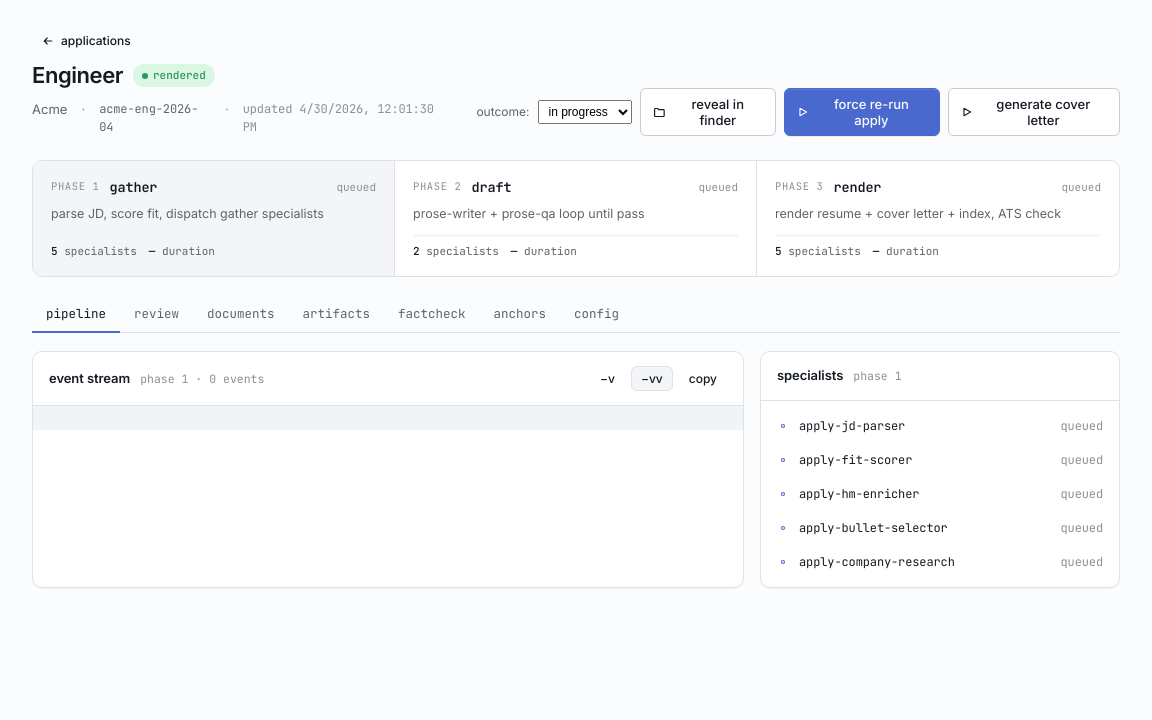
ApplicationDetail positive: API artifacts surface in DOM (feat-83d6cf54) › shows empty-state message in artifacts tab when no artifacts are present
This screenshot has width=1152, height=720.
Click the text "artifacts" at point(336, 313), box [302, 304, 370, 322]
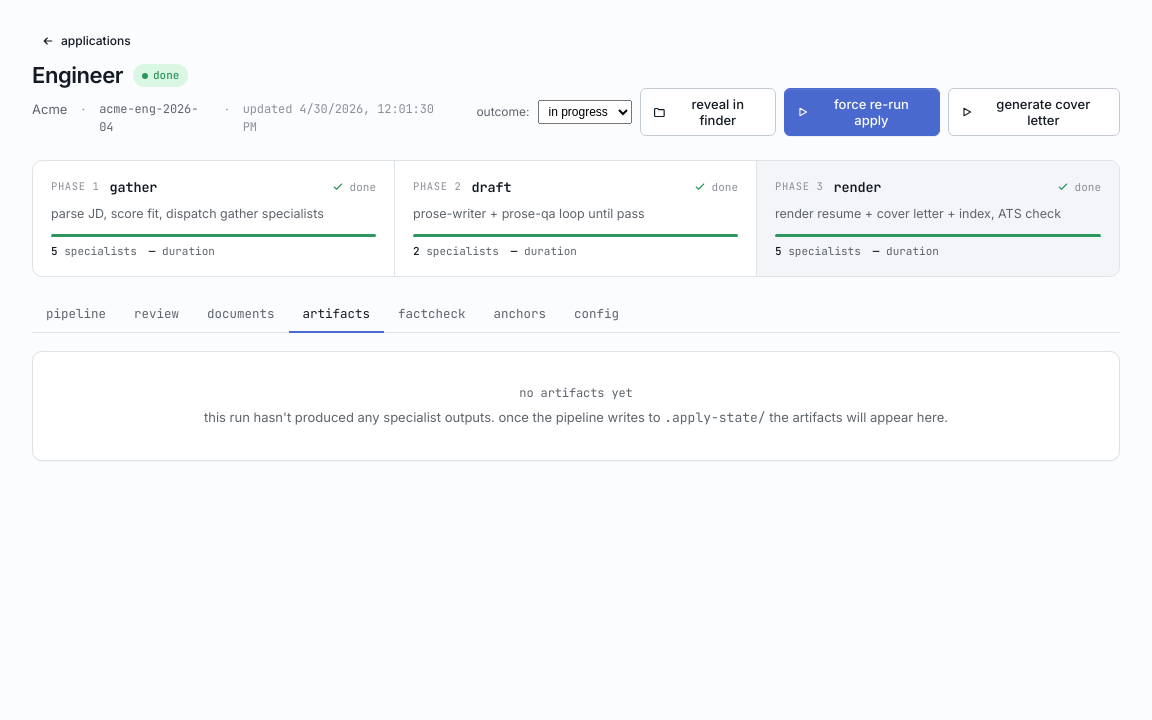
Expected: the text "no artifacts yet" is shown, [519, 385, 633, 401]
